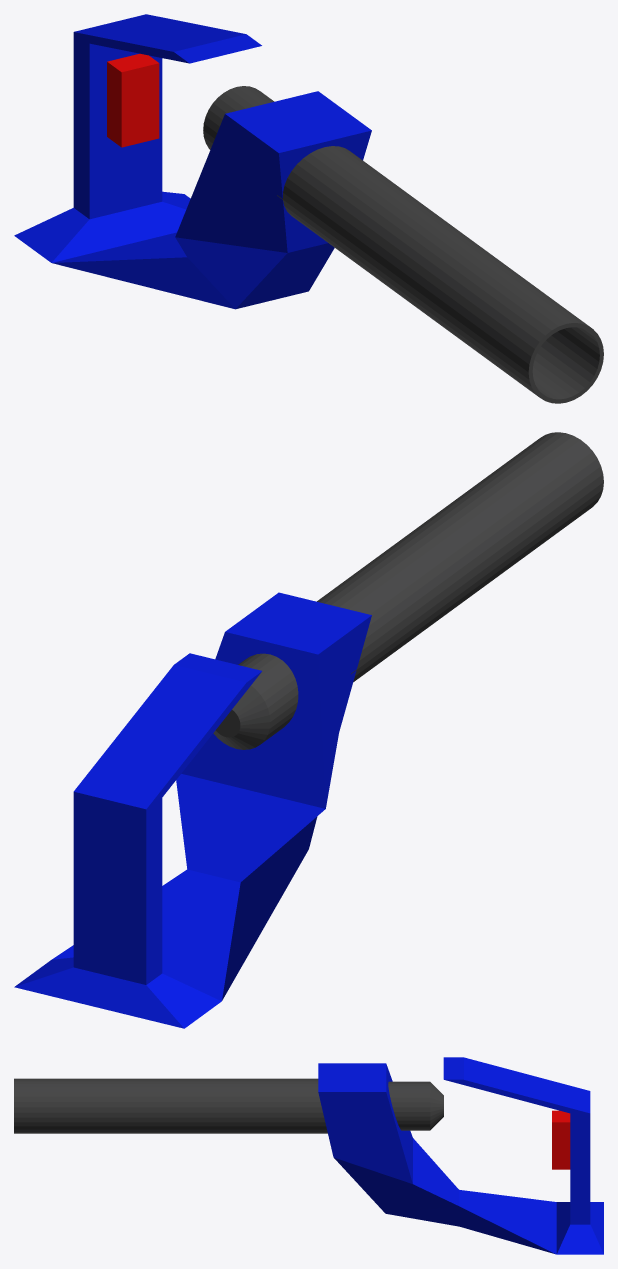
The model's file is Weapon1-pistol.fbx.
3 views of the same model, one above another, from view 1: azimuth 30°, elevation 25°; view 2: azimuth 150°, elevation 25°; view 3: azimuth 270°, elevation 25° (orthographic). The views are drawn at different scales.
Visible parts, largest first — view 1: Cylinder, Cube.001; view 2: Cylinder; view 3: Cylinder, Cube.001.
Boxes of the visible parts, x1=… form: Cylinder: x1=14, y1=14, x2=603, y2=403; Cube.001: x1=107, y1=53, x2=159, y2=147; Cylinder: x1=14, y1=432, x2=603, y2=1028; Cylinder: x1=14, y1=1057, x2=603, y2=1254; Cube.001: x1=552, y1=1110, x2=570, y2=1169.
Bounding box in the file's own units: 54.29 × 77 × 258.
